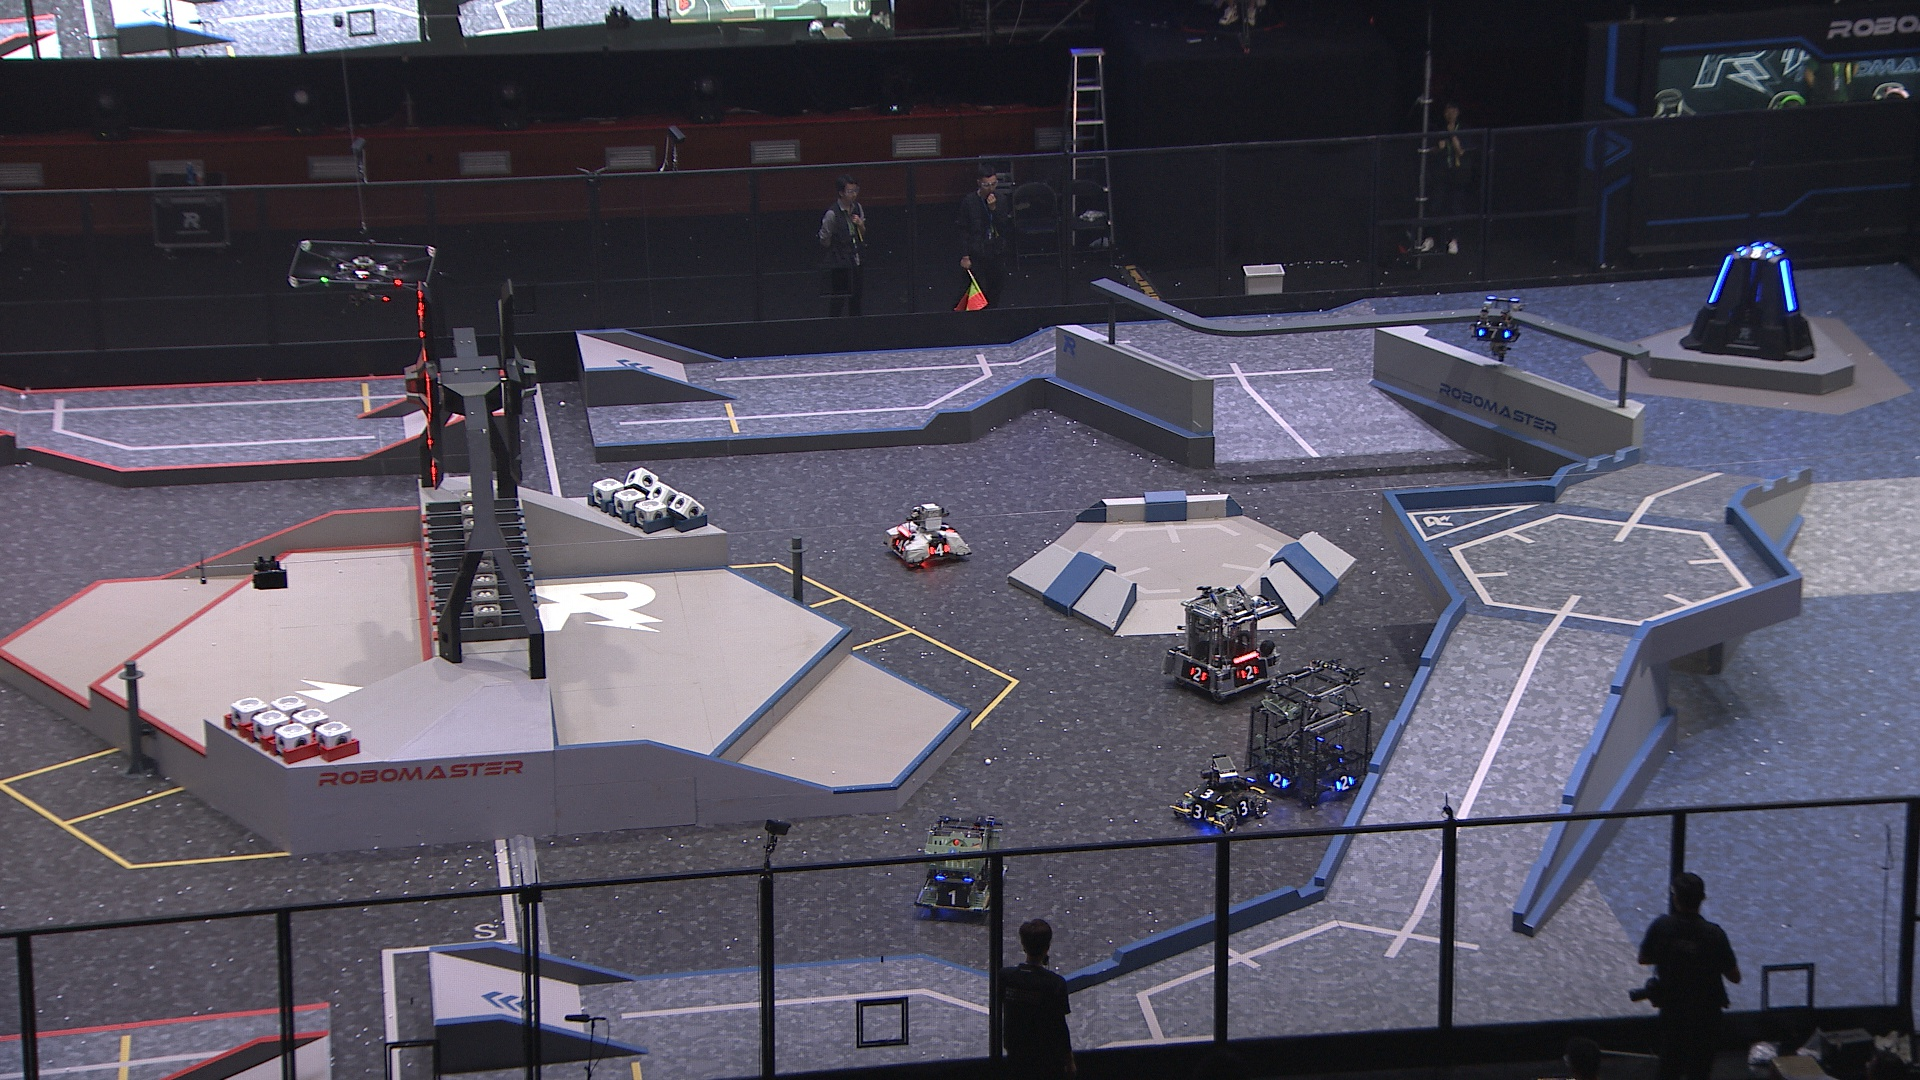armor: (1708, 253, 1735, 306), (1778, 258, 1799, 314), (932, 884, 971, 909), (1477, 327, 1514, 345), (1741, 244, 1775, 261), (1234, 796, 1253, 820), (1335, 773, 1356, 793), (1187, 802, 1207, 822), (1187, 665, 1207, 684), (1267, 771, 1288, 790), (927, 542, 949, 559), (1193, 789, 1222, 802), (1238, 665, 1259, 680), (891, 538, 906, 556), (940, 522, 955, 533)
base: (1680, 243, 1812, 363)
car: (1244, 665, 1371, 814), (1163, 585, 1273, 704), (915, 815, 1007, 916), (1168, 749, 1273, 837), (882, 500, 975, 571)
watcher: (1466, 295, 1524, 367)
